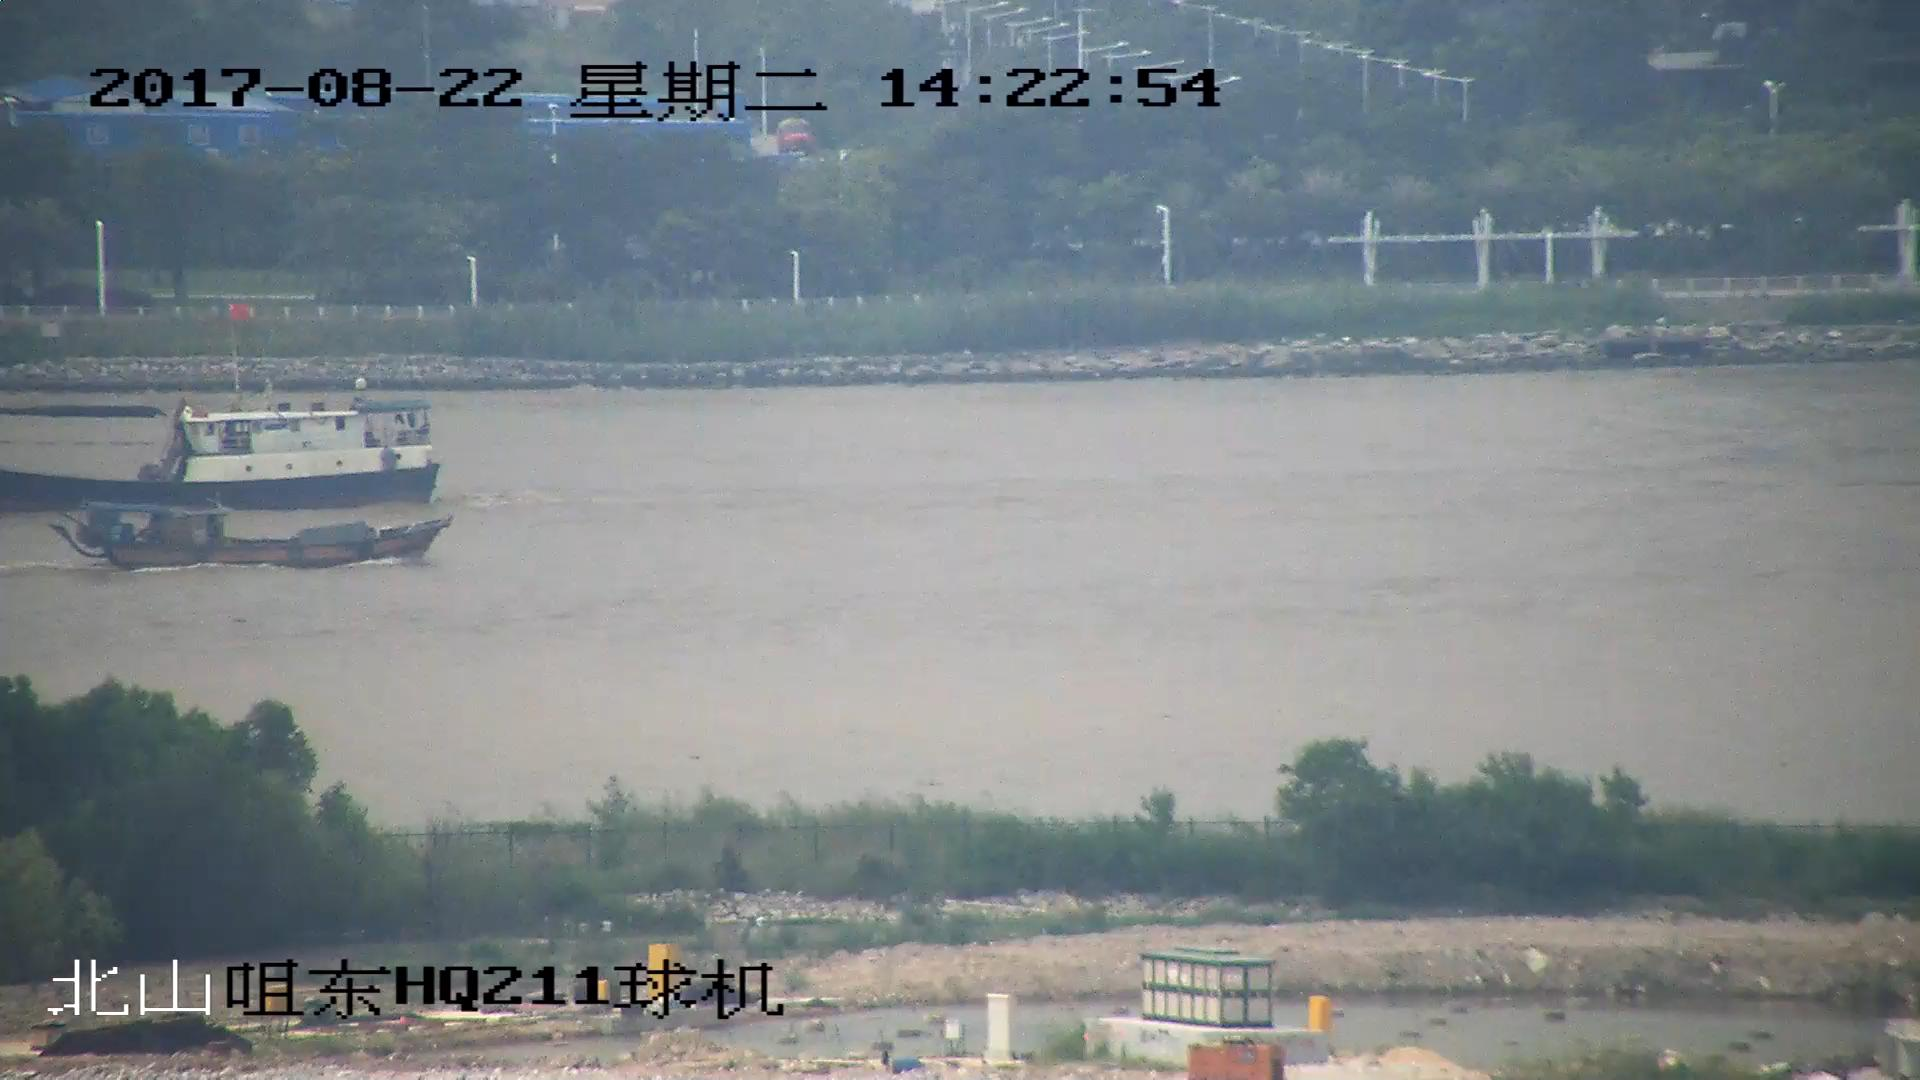fishing boat: (1, 305, 438, 508), (55, 501, 450, 574)
